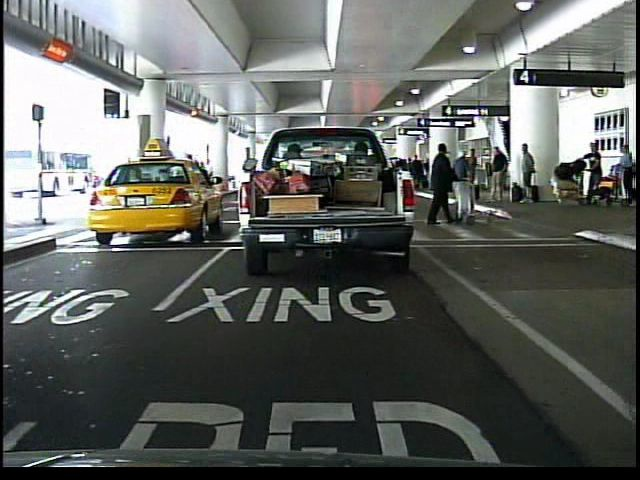person: (422, 141, 457, 230), (450, 146, 475, 222), (615, 140, 639, 211), (584, 140, 605, 188)
